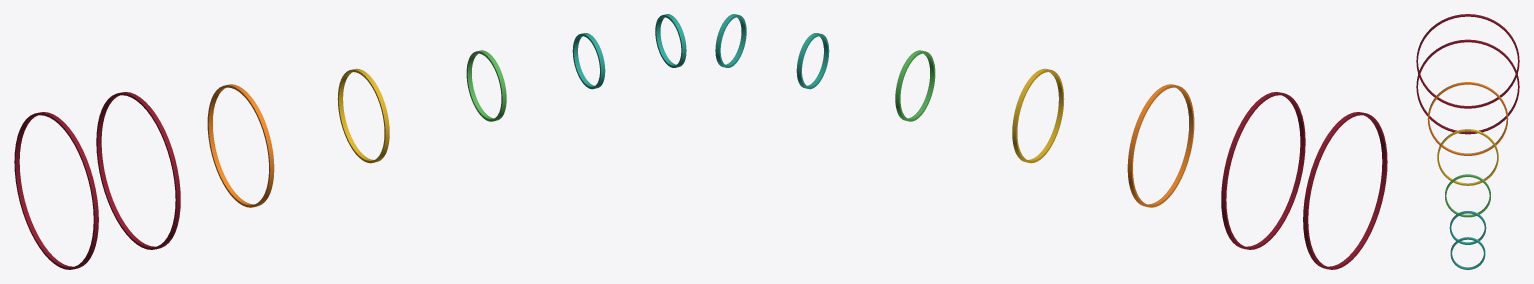
File: silencer_noise.glb
The picture shows the model from 3 angles, left to right: view 1: azimuth 30°, elevation 25°; view 2: azimuth 150°, elevation 25°; view 3: azimuth 270°, elevation 25°; orthographic projection. The views are drawn at different scales.
Visible parts, largest first — view 1: nz; view 2: nz; view 3: nz.
Part boxes in pixels (<box>): nz: <box>14,14,686,269</box>; nz: <box>715,14,1387,269</box>; nz: <box>1416,14,1519,269</box>.
Size of the model in its own units: 3.02 by 0.68 by 0.68.
